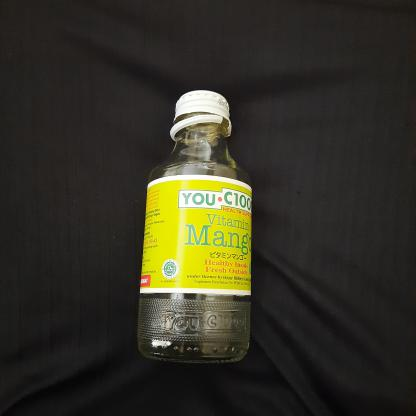bottle: (134, 85, 262, 371)
